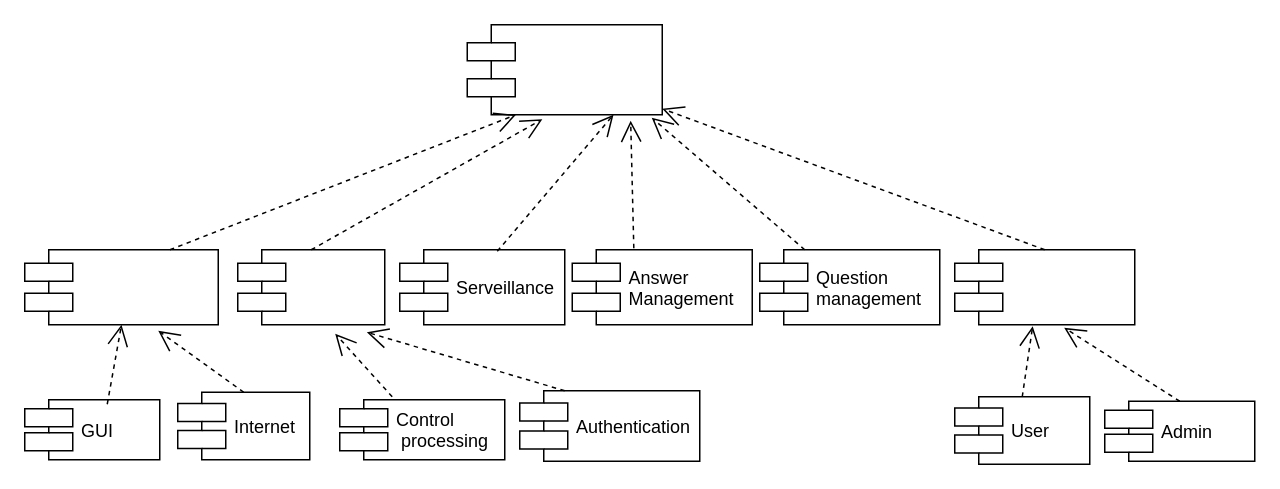
Image size: 1280x489. Some labels were removed from this diagram. Here are the shapes that lost their labels. From the top down, the centre of each, then its label:
point 564,69: Education Tool
point 120,286: External Communication
point 310,286: Security
point 1044,286: User Management
